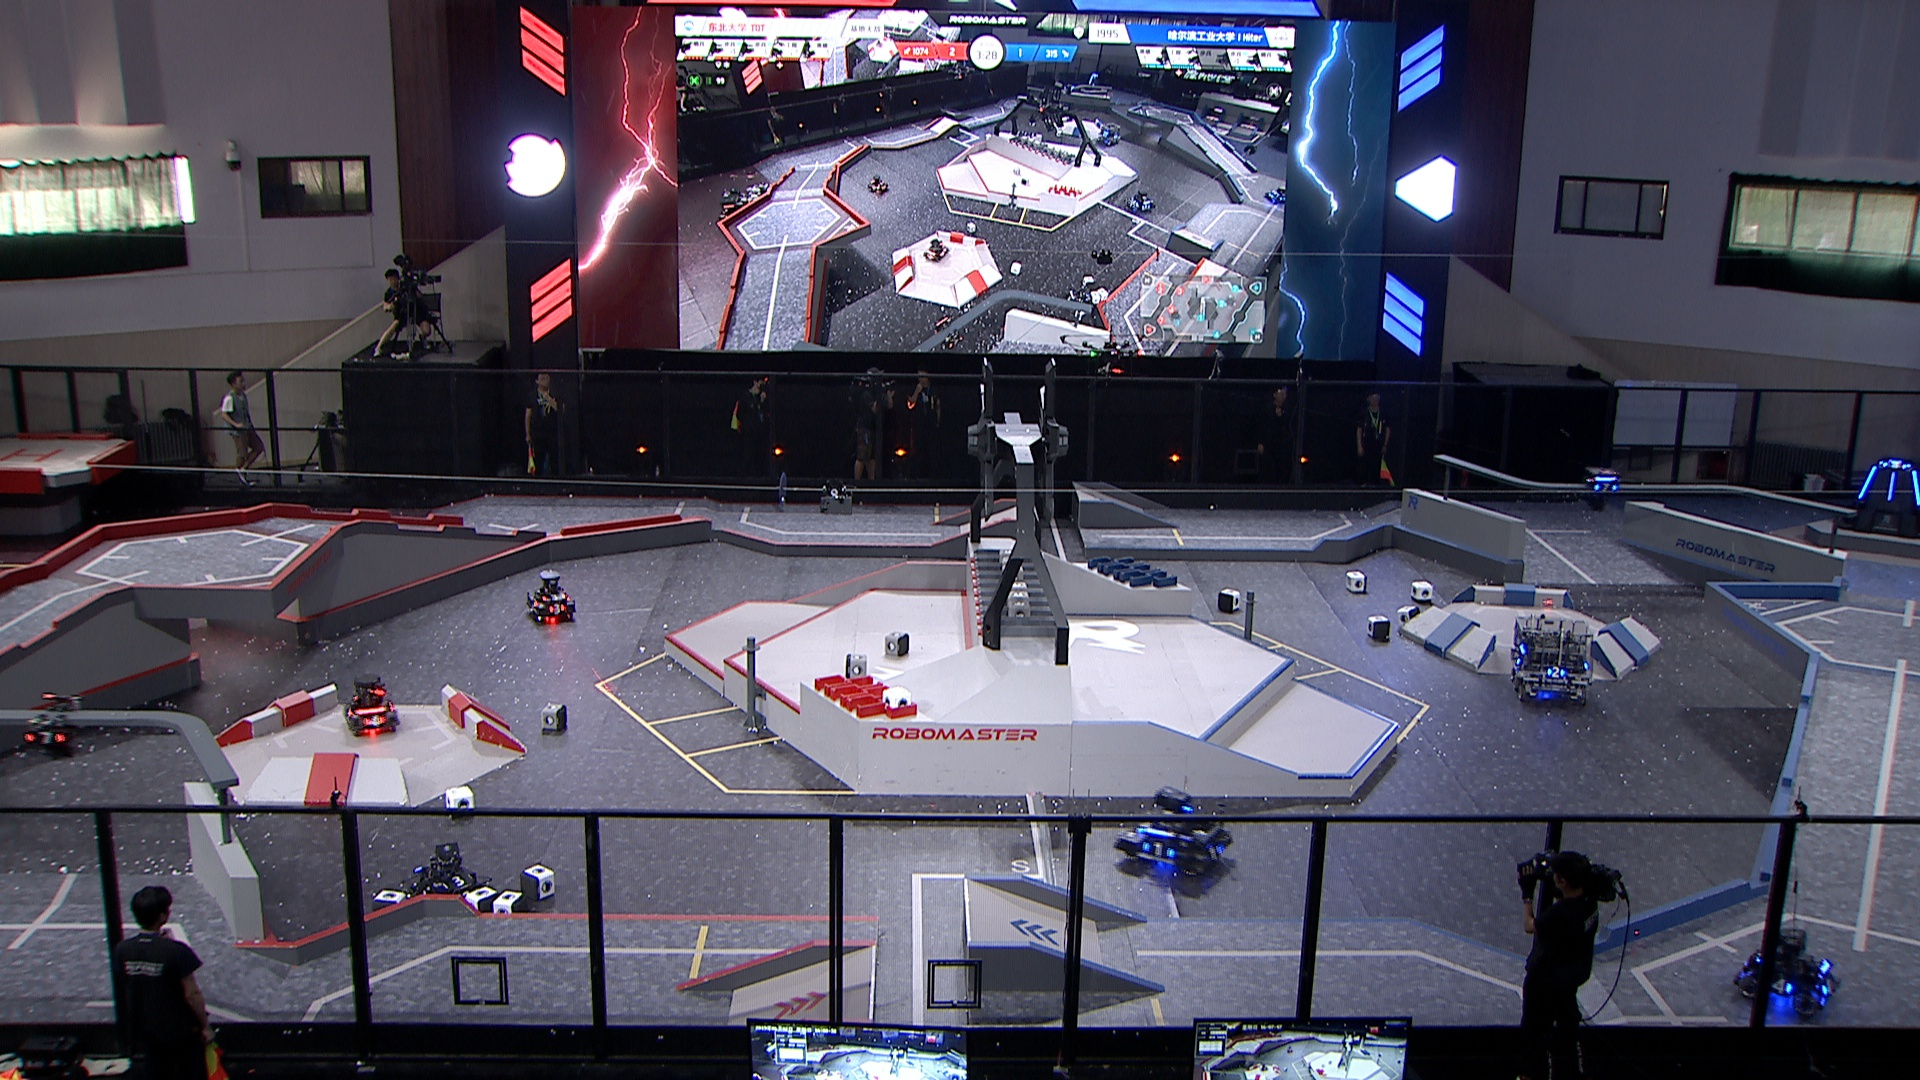armor: (25, 727, 62, 746), (1858, 465, 1878, 498), (1139, 841, 1176, 858), (1766, 973, 1789, 996), (443, 872, 473, 889), (1183, 820, 1211, 837), (367, 712, 386, 731), (1207, 841, 1225, 860), (1884, 473, 1898, 498), (1820, 977, 1840, 993), (1544, 665, 1565, 679), (1883, 458, 1907, 469), (1912, 471, 1920, 505), (1596, 480, 1617, 491), (529, 595, 542, 611), (542, 593, 564, 600), (549, 604, 564, 613)
base: (1844, 454, 1920, 541)
car: (1120, 787, 1236, 880), (1735, 927, 1841, 1019), (1506, 612, 1596, 709), (409, 844, 491, 907), (342, 670, 401, 735), (522, 570, 579, 622)
ignore: (713, 190, 754, 225), (931, 318, 967, 349), (1093, 117, 1124, 148), (920, 233, 949, 262), (1124, 190, 1155, 215), (738, 181, 765, 206), (1267, 182, 1292, 206), (865, 173, 891, 195), (1083, 69, 1102, 91)
watcher: (17, 692, 88, 765), (1581, 458, 1626, 516)
